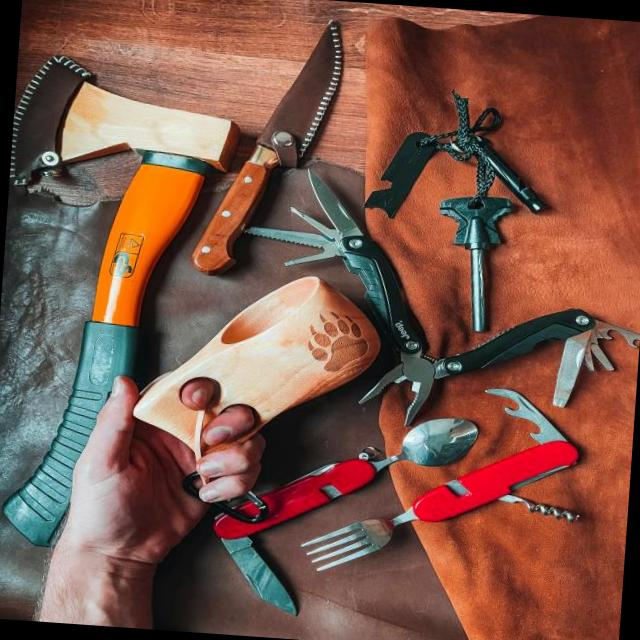Axe: (2, 82, 230, 547)
Knife: (197, 20, 345, 274)
